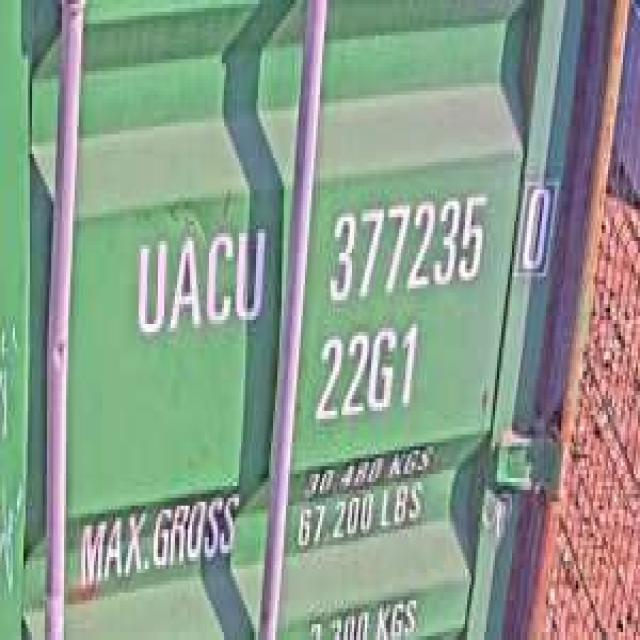dv: (514, 170, 559, 284)
owner: (128, 213, 269, 344)
serial: (320, 186, 489, 308)
size: (312, 316, 421, 431)
